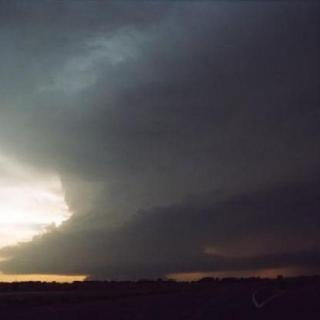Cumulonimbus: (0, 28, 320, 271)
